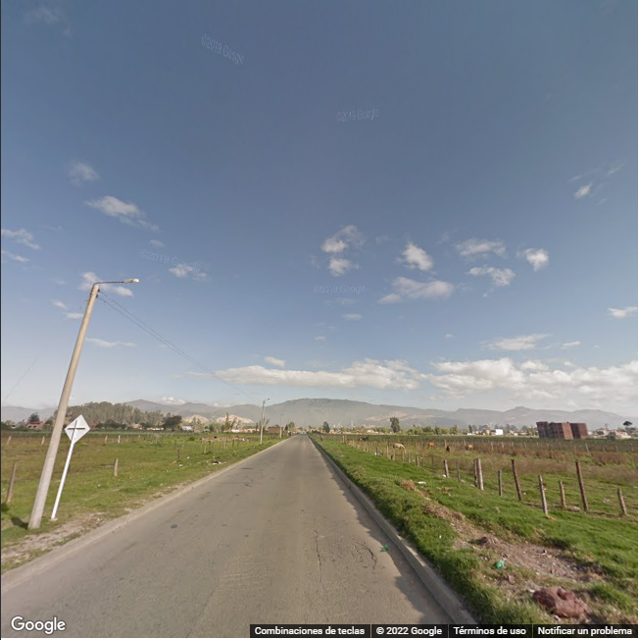D00: (180, 583, 222, 636), (311, 528, 334, 602), (359, 536, 381, 579)
